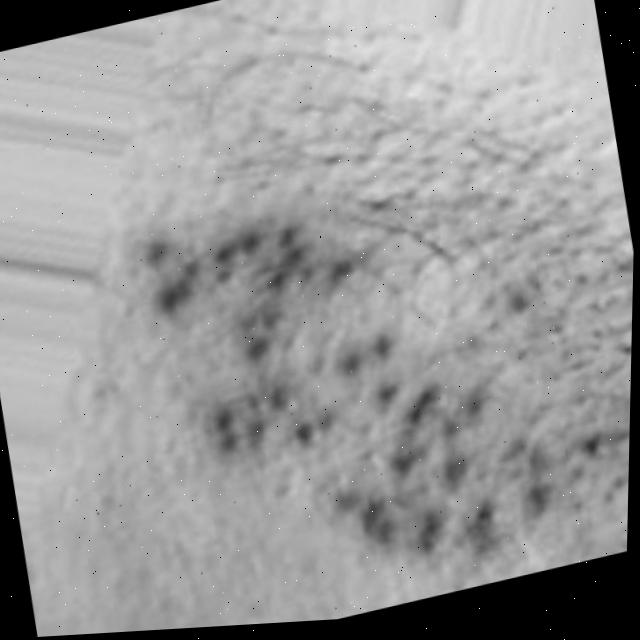Shingles: (122, 134, 597, 624)
